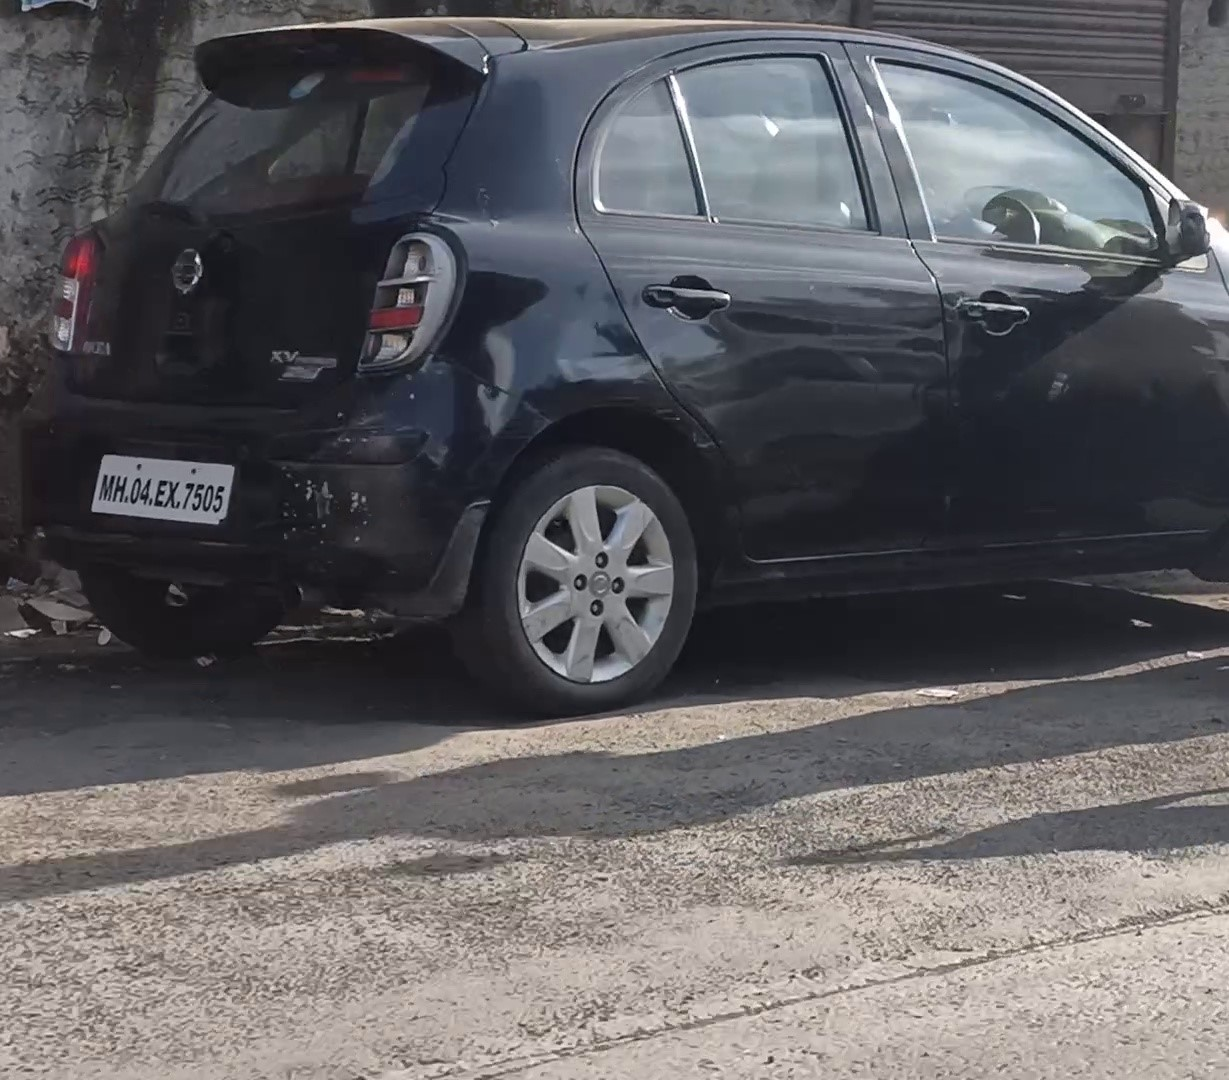MH04EX7505: (90, 455, 233, 526)
